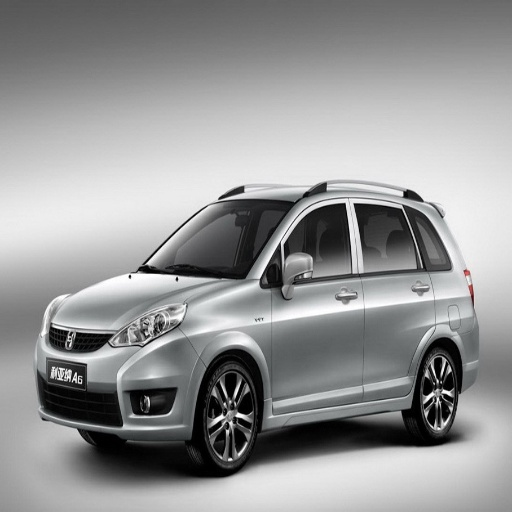back_left_door: (350, 197, 435, 398)
front_bumper: (34, 314, 207, 443)
front_glass: (139, 200, 292, 278)
front_left_door: (270, 197, 364, 409)
